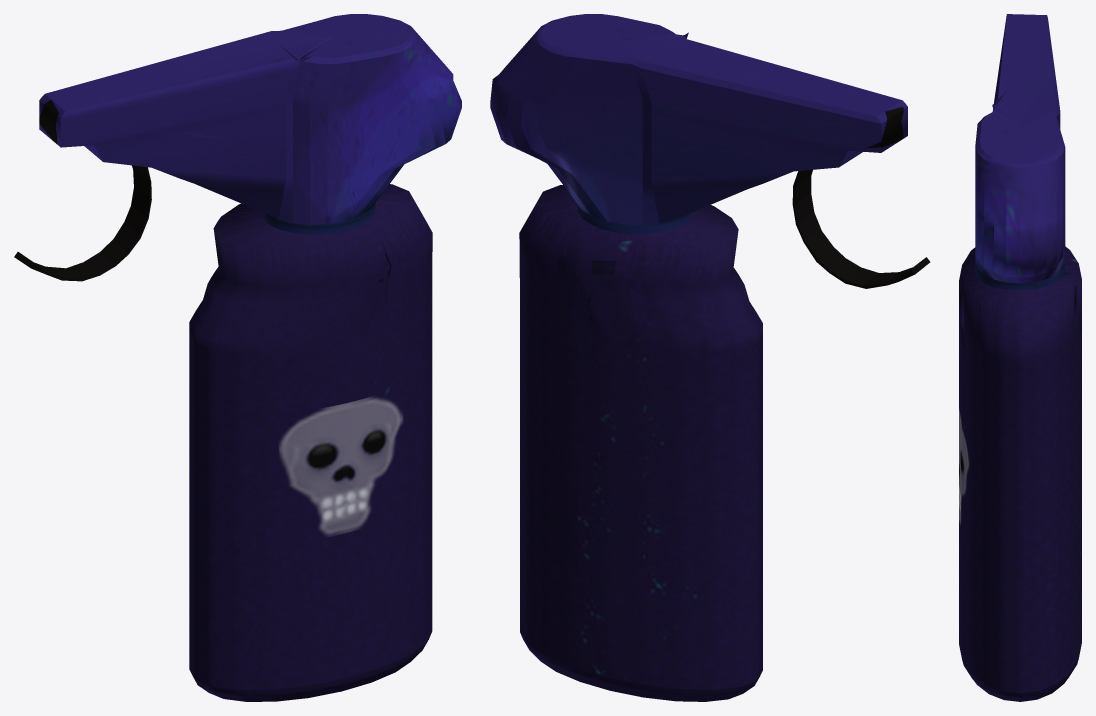
Rendered from spray texture.fbx.
3 views of the same model, side by side, from view 1: azimuth 30°, elevation 25°; view 2: azimuth 150°, elevation 25°; view 3: azimuth 270°, elevation 25° (orthographic). The views are drawn at different scales.
Parts seen in each view (by area): view 1: pDisc4; view 2: pDisc4; view 3: pDisc4.
Boxes of the visible parts, x1=… form: pDisc4: x1=14, y1=14, x2=461, y2=701; pDisc4: x1=490, y1=14, x2=930, y2=701; pDisc4: x1=959, y1=14, x2=1081, y2=701.
Bounding box in the file's own units: 5.08 × 7.22 × 1.45.
Materials: 1 (1 with a texture image).
